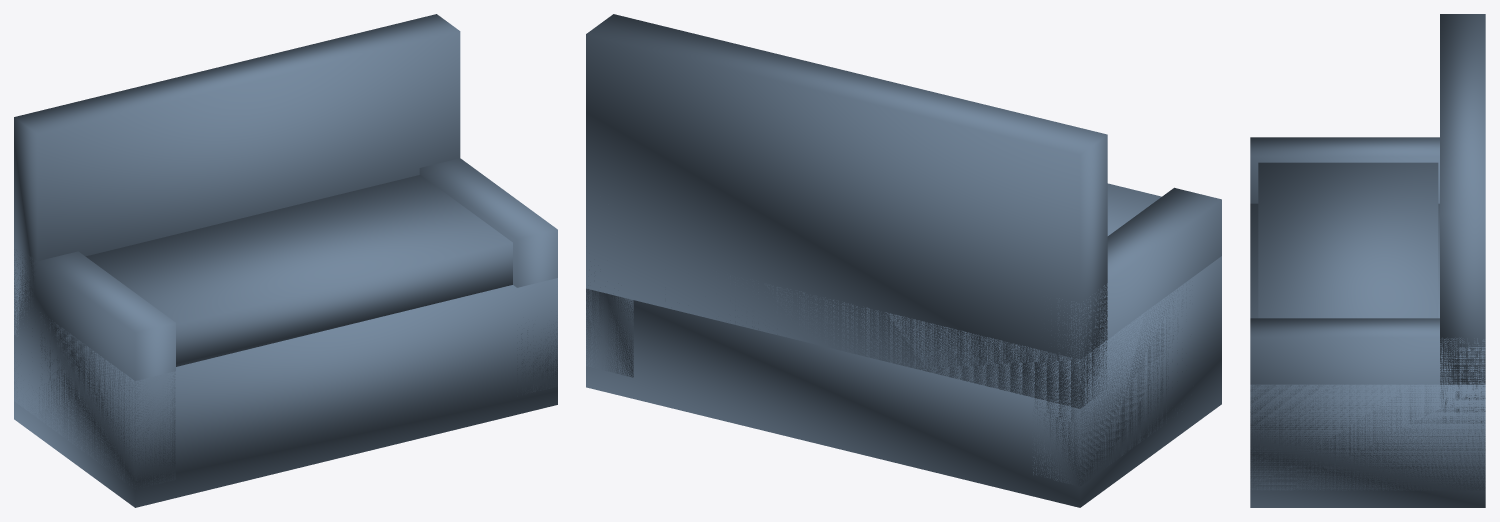
Rendered from loveseat__reinforced.glb.
The picture shows the model from 3 angles, left to right: view 1: azimuth 30°, elevation 25°; view 2: azimuth 150°, elevation 25°; view 3: azimuth 270°, elevation 25°; orthographic projection. The views are drawn at different scales.
Parts seen in each view (by area): view 1: world; view 2: world; view 3: world.
Boxes of the visible parts, x1,y1,x2,y2 form: world: [14, 14, 557, 507]; world: [586, 14, 1221, 507]; world: [1250, 14, 1485, 507].
Size of the model in its own units: 1.49 by 1.05 by 0.7416.
